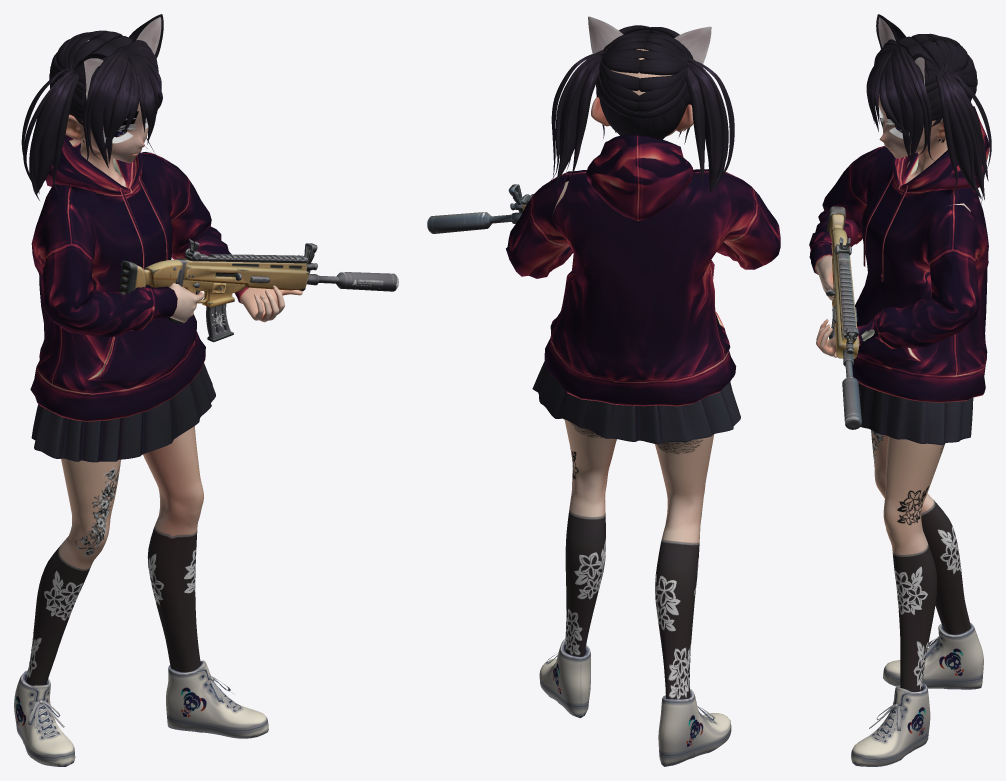
Rendered from KIttI Stylized Toon 3dcharacter.fbx.
The picture shows the model from 3 angles, left to right: view 1: azimuth 30°, elevation 25°; view 2: azimuth 150°, elevation 25°; view 3: azimuth 270°, elevation 25°; orthographic projection. The views are drawn at different scales.
Parts seen in each view (by area): view 1: desirefx.me_020, desirefx.me_013, desirefx.me_002, desirefx.me_022, desirefx.me_016, desirefx.me_015, desirefx.me_017, desirefx.me_011, desirefx.me_019, desirefx.me_003, desirefx.me_014; view 2: desirefx.me_020, desirefx.me_013, desirefx.me_002, desirefx.me_015, desirefx.me_016, desirefx.me_017, desirefx.me_022, desirefx.me_003; view 3: desirefx.me_020, desirefx.me_013, desirefx.me_002, desirefx.me_017, desirefx.me_016, desirefx.me_015, desirefx.me_022, desirefx.me_019, desirefx.me_011, desirefx.me_014, desirefx.me_003.
Boxes of the visible parts, <box> form: desirefx.me_020: <box>30,134,205,421</box>; desirefx.me_013: <box>25,40,302,685</box>; desirefx.me_002: <box>21,14,163,200</box>; desirefx.me_022: <box>119,239,398,342</box>; desirefx.me_016: <box>14,660,268,766</box>; desirefx.me_015: <box>31,345,215,462</box>; desirefx.me_017: <box>142,152,248,303</box>; desirefx.me_011: <box>65,101,148,163</box>; desirefx.me_019: <box>80,139,204,322</box>; desirefx.me_003: <box>84,17,161,100</box>; desirefx.me_014: <box>89,176,168,379</box>; desirefx.me_020: <box>544,134,780,406</box>; desirefx.me_013: <box>564,49,714,699</box>; desirefx.me_002: <box>541,25,734,194</box>; desirefx.me_015: <box>532,361,740,444</box>; desirefx.me_016: <box>539,639,731,766</box>; desirefx.me_017: <box>506,171,572,278</box>; desirefx.me_022: <box>427,184,533,233</box>; desirefx.me_003: <box>588,16,711,63</box>; desirefx.me_020: <box>809,106,989,402</box>; desirefx.me_013: <box>816,43,970,691</box>; desirefx.me_002: <box>866,14,991,226</box>; desirefx.me_017: <box>857,204,980,349</box>; desirefx.me_016: <box>851,622,983,766</box>; desirefx.me_015: <box>858,349,973,444</box>; desirefx.me_022: <box>826,206,861,429</box>; desirefx.me_019: <box>816,138,947,300</box>; desirefx.me_011: <box>878,94,945,158</box>; desirefx.me_014: <box>863,173,919,360</box>; desirefx.me_003: <box>878,17,925,92</box>.
Size of the model in its own units: 51.65 by 100 by 24.37.
